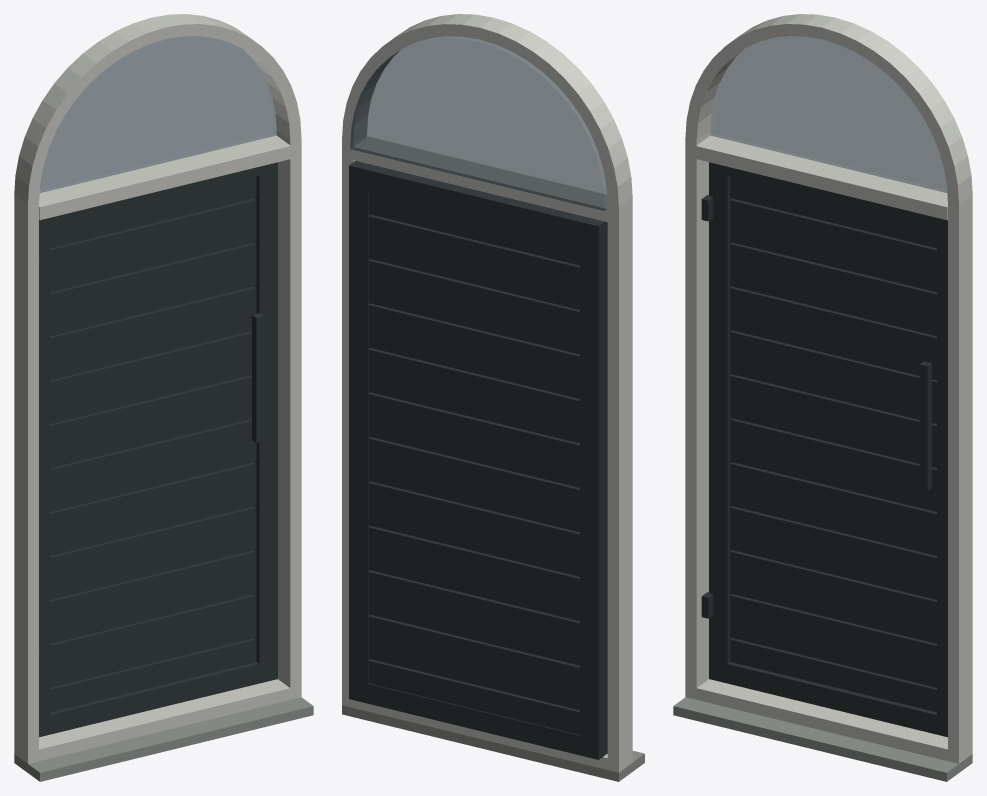
The model's file is moderno_arch_puerta.glb.
The picture shows the model from 3 angles, left to right: view 1: azimuth 30°, elevation 25°; view 2: azimuth 150°, elevation 25°; view 3: azimuth 330°, elevation 25°; orthographic projection.
Parts seen in each view (by area): view 1: door_reveal#0001, transom_glass#0001, door_leaf_frame#0001, door_louver#0003, door_louver#0011, door_louver#0002, door_louver#0004, door_louver#0005, door_louver#0010, door_louver#0009, door_louver#0006, door_louver#0008 (+7 smaller); view 2: door_leaf_frame#0001, door_reveal#0001, transom_glass#0001, door_louver#0004, door_louver#0002, door_louver#0003, door_louver#0005, door_louver#0006, door_louver#0009, door_louver#0007, door_louver#0008, door_louver#0010 (+6 smaller); view 3: door_reveal#0001, door_leaf_frame#0001, transom_glass#0001, door_louver#0003, door_louver#0011, door_louver#0002, door_louver#0004, door_louver#0005, door_louver#0010, door_louver#0009, door_louver#0006, door_louver#0007 (+6 smaller).
Boxes of the visible parts, x1,y1,x2,y2 form: door_reveal#0001: (14, 14, 301, 763); transom_glass#0001: (39, 36, 276, 192); door_leaf_frame#0001: (39, 162, 277, 737); door_louver#0003: (50, 550, 256, 643); door_louver#0011: (50, 198, 256, 292); door_louver#0002: (50, 594, 256, 687); door_louver#0004: (50, 506, 256, 599); door_louver#0005: (50, 462, 256, 555); door_louver#0010: (50, 242, 256, 336); door_louver#0009: (50, 286, 256, 380); door_louver#0006: (50, 419, 256, 511); door_louver#0008: (50, 331, 251, 423); door_leaf_frame#0001: (349, 161, 607, 759); door_reveal#0001: (342, 14, 632, 772); transom_glass#0001: (350, 36, 607, 210); door_louver#0004: (368, 526, 579, 621); door_louver#0002: (368, 615, 579, 710); door_louver#0003: (368, 570, 579, 665); door_louver#0005: (368, 481, 579, 576); door_louver#0006: (368, 437, 579, 532); door_louver#0009: (368, 303, 579, 398); door_louver#0007: (368, 392, 579, 487); door_louver#0008: (368, 348, 579, 443); door_louver#0010: (368, 259, 579, 354); door_reveal#0001: (685, 14, 972, 763); door_leaf_frame#0001: (709, 162, 947, 737); transom_glass#0001: (710, 36, 947, 192); door_louver#0003: (730, 550, 936, 643); door_louver#0011: (730, 198, 936, 292); door_louver#0002: (730, 594, 936, 687); door_louver#0004: (730, 506, 936, 599); door_louver#0005: (730, 462, 936, 555); door_louver#0010: (730, 242, 936, 336); door_louver#0009: (730, 286, 936, 380); door_louver#0006: (730, 418, 936, 511); door_louver#0007: (730, 374, 936, 467).
Bounding box in the file's own units: 1.1 × 2.73 × 0.225.
